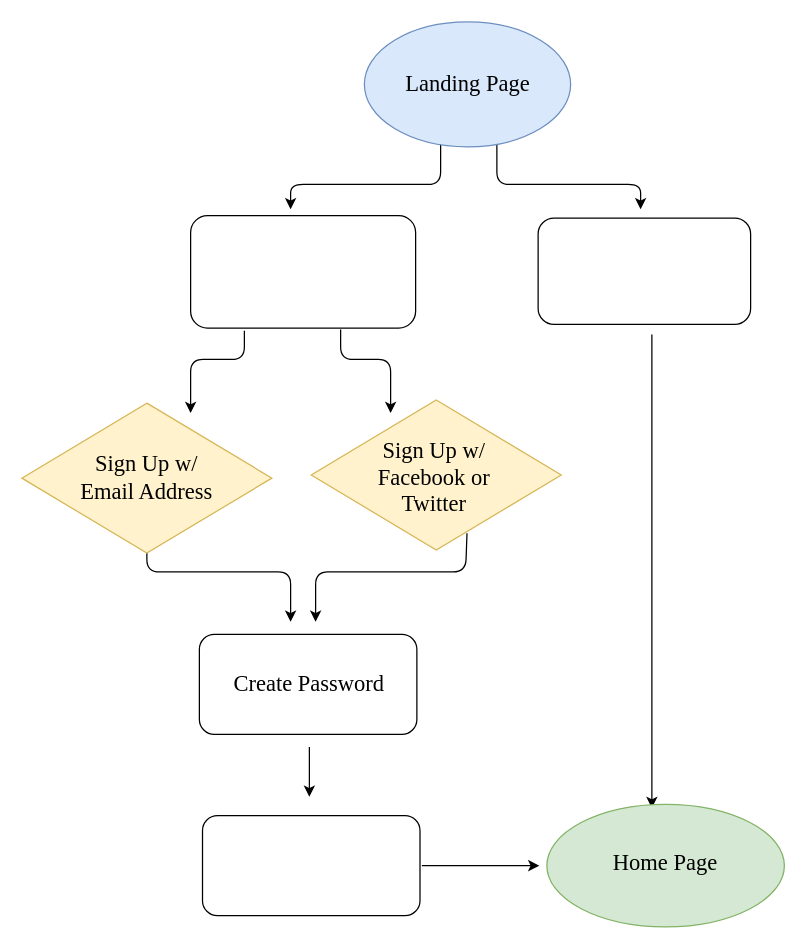
The diagram is 806 pixels wide and 949 high, and some of its shapes have lost their labels. The centre of each missing label's shape, as x and y in pixels:
Create Account: the point at 310,865
Sign Into Account: the point at 644,270
Sign Up for an Account: the point at 302,271
